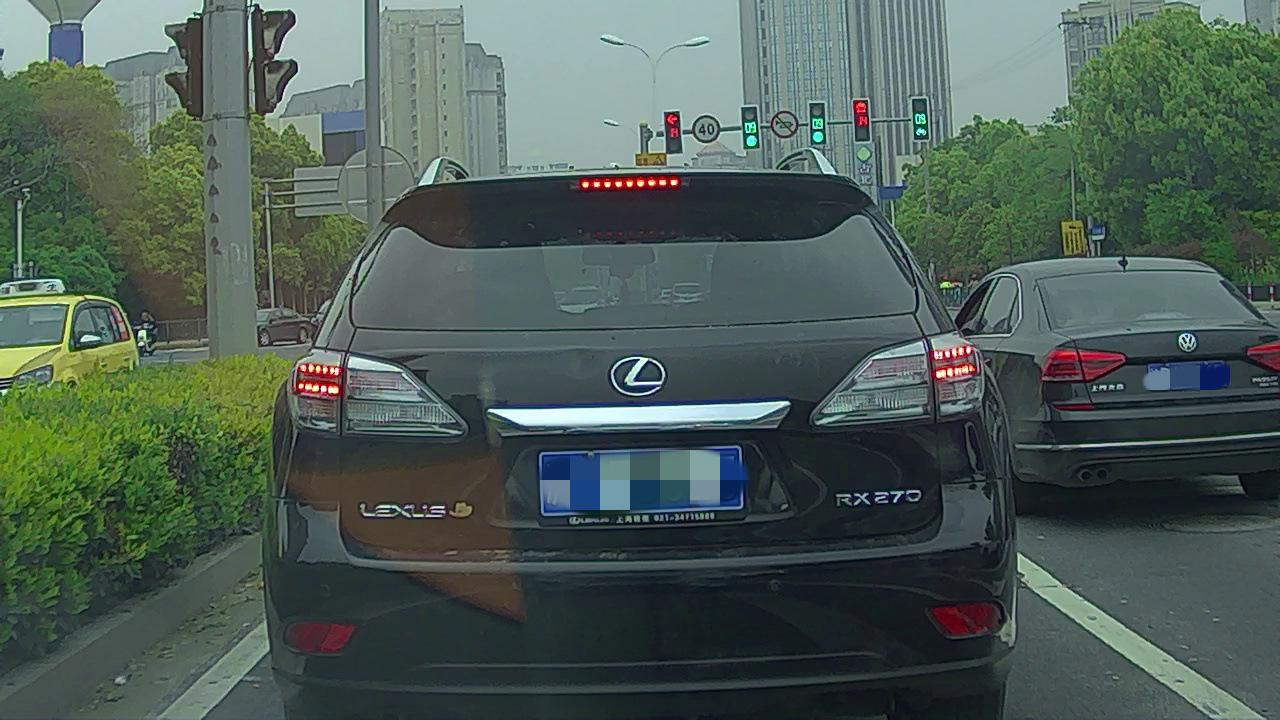traffic_light: (911, 96, 930, 141), (741, 107, 759, 148), (809, 102, 826, 144), (665, 111, 682, 152), (854, 99, 870, 142)
